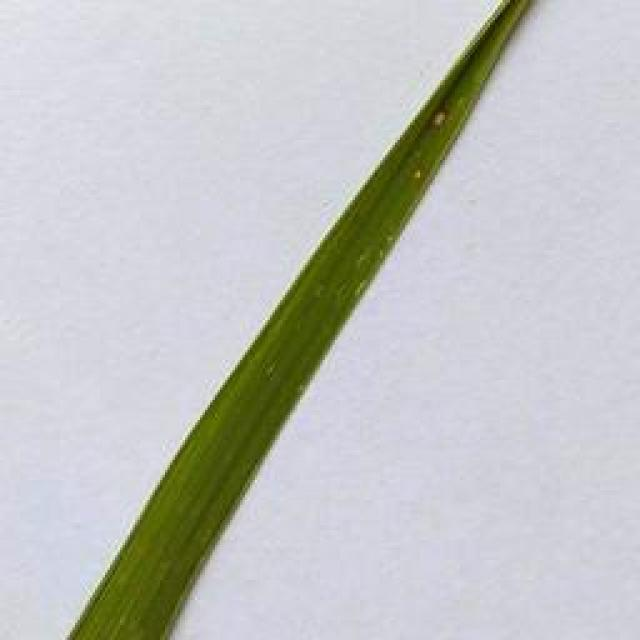Unhealthy: (426, 105, 450, 132), (412, 164, 424, 182)
